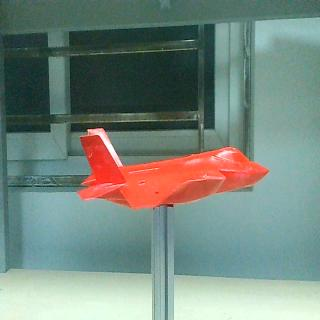Jet: (76, 127, 269, 210)
